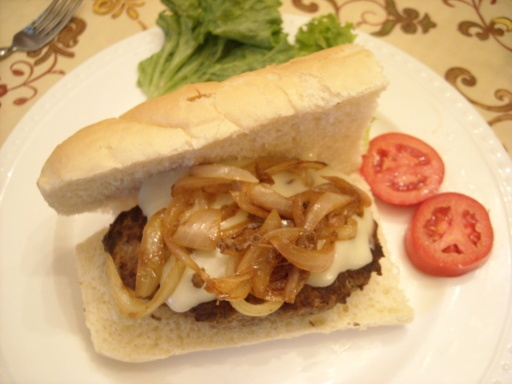background: (27, 0, 396, 217)
